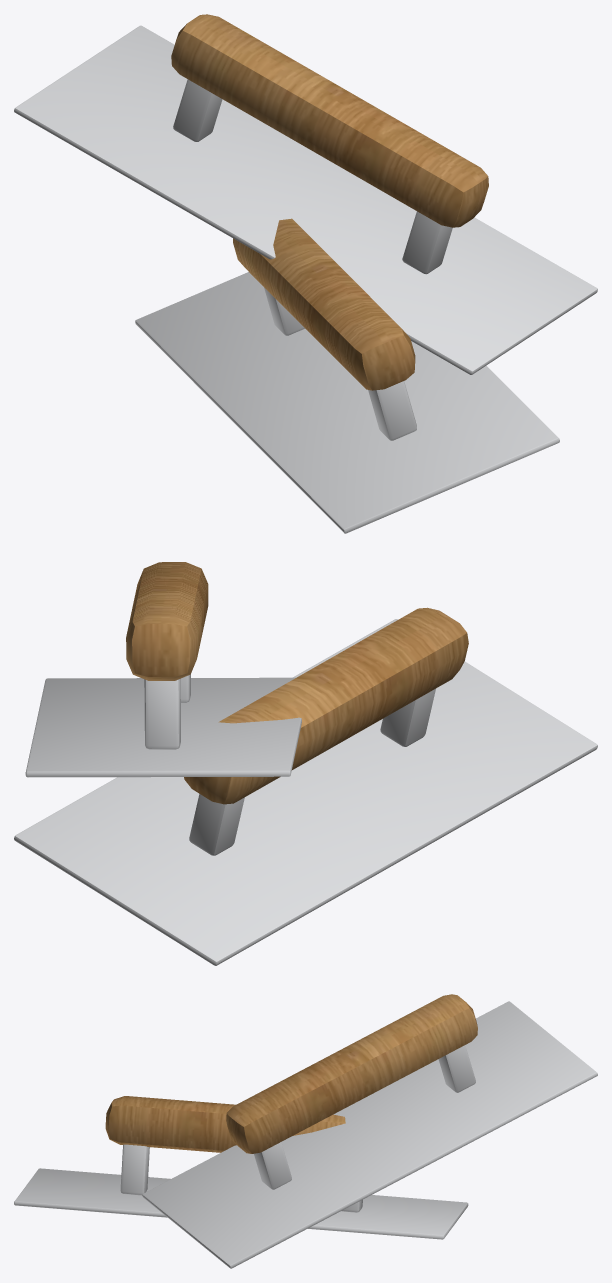
File: PIN-FER-005_anim.glb
The picture shows the model from 3 angles, top to bottom: view 1: azimuth 30°, elevation 25°; view 2: azimuth 150°, elevation 25°; view 3: azimuth 270°, elevation 25°; orthographic projection. The views are drawn at different scales.
Visible parts, largest first — view 1: PIN-FER-005_anim1, PIN-FER-005_anim0; view 2: PIN-FER-005_anim0, PIN-FER-005_anim1; view 3: PIN-FER-005_anim1, PIN-FER-005_anim0.
Part boxes in pixels (x1,y1,x2,y2): PIN-FER-005_anim1: (14,14,597,374); PIN-FER-005_anim0: (135,218,559,533); PIN-FER-005_anim0: (14,607,597,965); PIN-FER-005_anim1: (25,562,301,777); PIN-FER-005_anim1: (142,994,597,1268); PIN-FER-005_anim0: (14,1096,468,1239).
Bounding box in the file's own units: 0.2315 × 0.163 × 0.3761.
2 materials, 1 textured.
